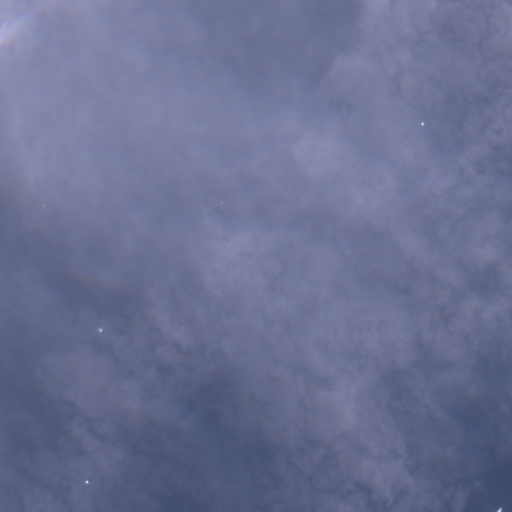Iceberg: (98, 328, 102, 332), (497, 507, 501, 511), (85, 480, 88, 483), (421, 122, 423, 125), (221, 201, 222, 203), (43, 204, 44, 206)
